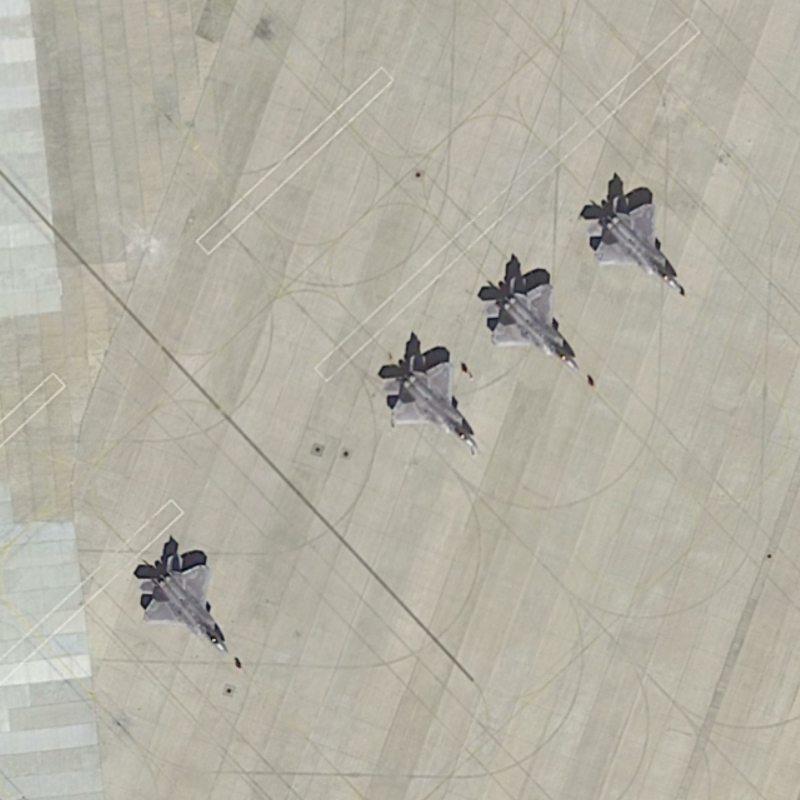A15: (576, 190, 697, 301), (372, 343, 482, 456), (473, 270, 587, 378), (132, 549, 234, 661)
